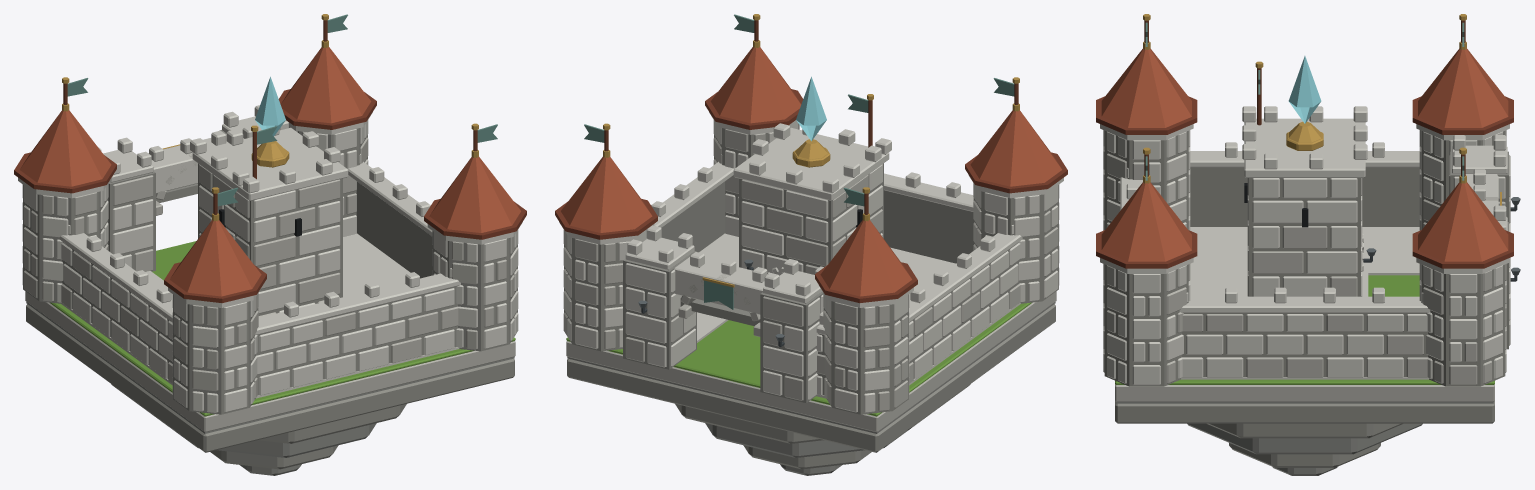
Rendered from castle.glb.
3 renders of one model, left to right at view 1: azimuth 30°, elevation 25°; view 2: azimuth 150°, elevation 25°; view 3: azimuth 270°, elevation 25°, orthographic. The views are drawn at different scales.
Parts seen in each view (by area): view 1: BWAR_G_castle__IslandBase, BWAR_G_castle__CurtainShell, BWAR_G_castle__IslandBand, BWAR_G_castle__CurtainCornice, BWAR_G_castle__KeepCornice, BWAR_G_castle__Towerm1m1Roof, BWAR_G_castle__Tower1m1Roof, BWAR_G_castle__Towerm11Roof, BWAR_G_castle__Tower11Roof, BWAR_G_castle__Courtyard, BWAR_G_castle__IslandLip, BWAR_G_castle__Towerm1m1WallShell (+51 smaller); view 2: BWAR_G_castle__CurtainShell, BWAR_G_castle__IslandBase, BWAR_G_castle__IslandBand, BWAR_G_castle__CurtainCornice, BWAR_G_castle__IslandLip, BWAR_G_castle__KeepCornice, BWAR_G_castle__Towerm11Roof, BWAR_G_castle__Tower11Roof, BWAR_G_castle__Towerm1m1Roof, BWAR_G_castle__Tower1m1Roof, BWAR_G_castle__Towerm11WallShell, BWAR_G_castle__Courtyard (+40 smaller); view 3: BWAR_G_castle__CurtainShell, BWAR_G_castle__IslandBase, BWAR_G_castle__Courtyard, BWAR_G_castle__IslandBand, BWAR_G_castle__CurtainCornice, BWAR_G_castle__KeepCornice, BWAR_G_castle__Tower1m1Roof, BWAR_G_castle__Tower11Roof, BWAR_G_castle__Towerm11Roof, BWAR_G_castle__Towerm1m1Roof, BWAR_G_castle__Tower11WallShell, BWAR_G_castle__Tower1m1WallShell (+63 smaller).
Part boxes in pixels (box(x1,y1,x2,y2)): BWAR_G_castle__IslandBase: box(26, 304, 514, 452); BWAR_G_castle__CurtainShell: box(62, 181, 457, 395); BWAR_G_castle__IslandBand: box(25, 291, 515, 432); BWAR_G_castle__CurtainCornice: box(59, 161, 460, 334); BWAR_G_castle__KeepCornice: box(192, 127, 348, 200); BWAR_G_castle__Towerm1m1Roof: box(170, 220, 261, 296); BWAR_G_castle__Tower1m1Roof: box(429, 156, 520, 232); BWAR_G_castle__Towerm11Roof: box(20, 110, 111, 186); BWAR_G_castle__Tower11Roof: box(280, 47, 371, 123); BWAR_G_castle__Courtyard: box(61, 233, 459, 398); BWAR_G_castle__IslandLip: box(50, 241, 515, 416); BWAR_G_castle__Towerm1m1WallShell: box(173, 294, 258, 414); BWAR_G_castle__CurtainShell: box(661, 181, 1019, 395); BWAR_G_castle__IslandBase: box(567, 304, 1055, 452); BWAR_G_castle__IslandBand: box(566, 291, 1056, 432); BWAR_G_castle__CurtainCornice: box(621, 161, 1022, 334); BWAR_G_castle__IslandLip: box(566, 302, 1031, 416); BWAR_G_castle__KeepCornice: box(733, 127, 889, 200); BWAR_G_castle__Towerm11Roof: box(820, 220, 911, 296); BWAR_G_castle__Tower11Roof: box(561, 156, 652, 232); BWAR_G_castle__Towerm1m1Roof: box(970, 110, 1061, 186); BWAR_G_castle__Tower1m1Roof: box(710, 47, 801, 123); BWAR_G_castle__Towerm11WallShell: box(823, 294, 908, 414); BWAR_G_castle__Courtyard: box(622, 233, 1020, 398); BWAR_G_castle__CurtainShell: box(1182, 167, 1427, 376); BWAR_G_castle__IslandBase: box(1115, 401, 1494, 423); BWAR_G_castle__Courtyard: box(1181, 227, 1428, 379); BWAR_G_castle__IslandBand: box(1115, 384, 1494, 401); BWAR_G_castle__CurtainCornice: box(1120, 151, 1430, 312); BWAR_G_castle__KeepCornice: box(1244, 118, 1365, 177); BWAR_G_castle__Tower1m1Roof: box(1101, 182, 1191, 261); BWAR_G_castle__Tower11Roof: box(1418, 182, 1508, 261); BWAR_G_castle__Towerm11Roof: box(1418, 48, 1508, 127); BWAR_G_castle__Towerm1m1Roof: box(1101, 48, 1191, 127); BWAR_G_castle__Tower11WallShell: box(1421, 264, 1505, 386); BWAR_G_castle__Tower1m1WallShell: box(1104, 264, 1188, 386).
Bounding box in the file's own units: 3.3 × 3.55 × 3.35.
